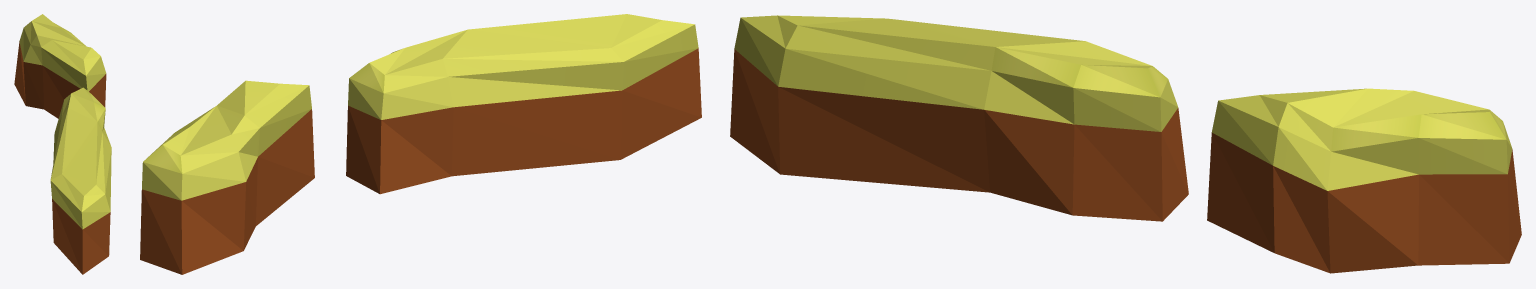
The model's file is asia_Japen.glb.
The picture shows the model from 3 angles, left to right: view 1: azimuth 30°, elevation 25°; view 2: azimuth 150°, elevation 25°; view 3: azimuth 270°, elevation 25°; orthographic projection. The views are drawn at different scales.
Parts seen in each view (by area): view 1: asia_Japen; view 2: asia_Japen; view 3: asia_Japen.
Part boxes in pixels (x1,y1,x2,y2): asia_Japen: (14,14,111,274); asia_Japen: (140,14,701,274); asia_Japen: (730,15,1521,273).
Bounding box in the file's own units: 0.979 × 0.4991 × 2.01.
2 materials, 2 textured.
